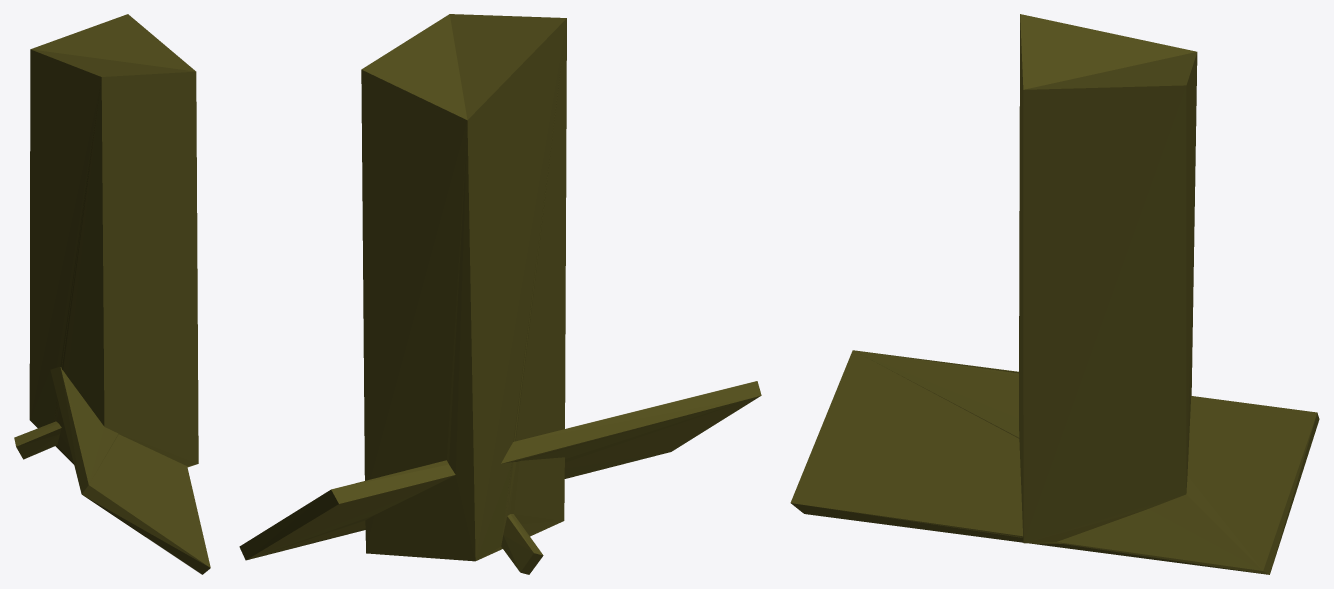
The picture shows the model from 3 angles, left to right: view 1: azimuth 30°, elevation 25°; view 2: azimuth 150°, elevation 25°; view 3: azimuth 270°, elevation 25°; orthographic projection. The views are drawn at different scales.
Parts seen in each view (by area): view 1: 185_Cube.769; view 2: 185_Cube.769; view 3: 185_Cube.769.
Part boxes in pixels (x1,y1,x2,y2): 185_Cube.769: (14, 14, 210, 574); 185_Cube.769: (239, 14, 761, 574); 185_Cube.769: (790, 14, 1319, 574).
Bounding box in the file's own units: 8 × 12.79 × 12.36.
